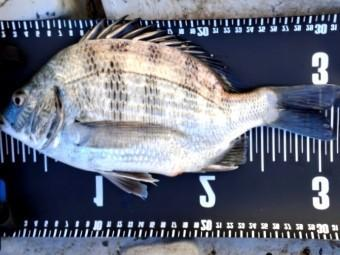fish: (0, 15, 339, 201)
